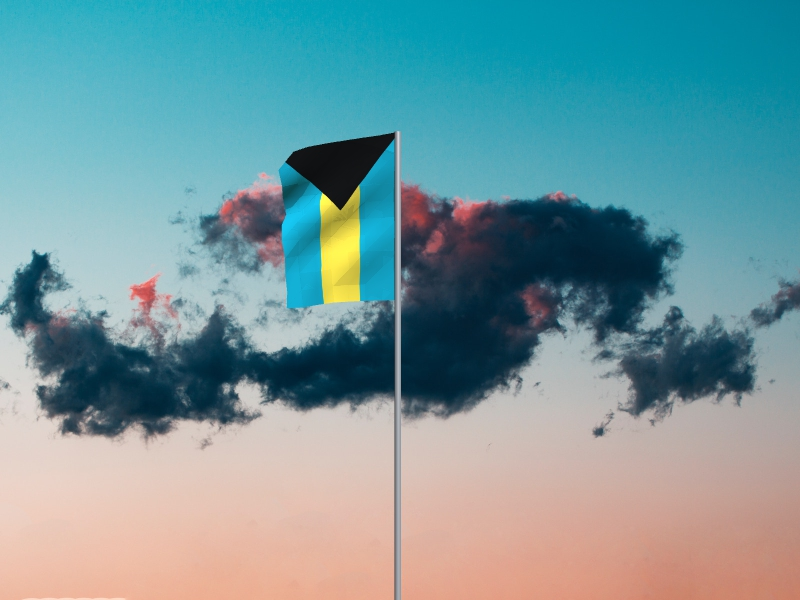bs: (278, 133, 395, 310)
